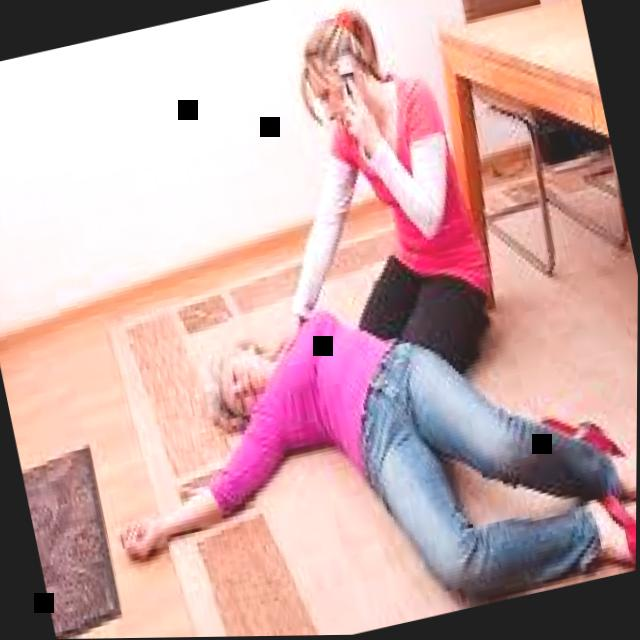Fall-Detected: (47, 218, 639, 639)
